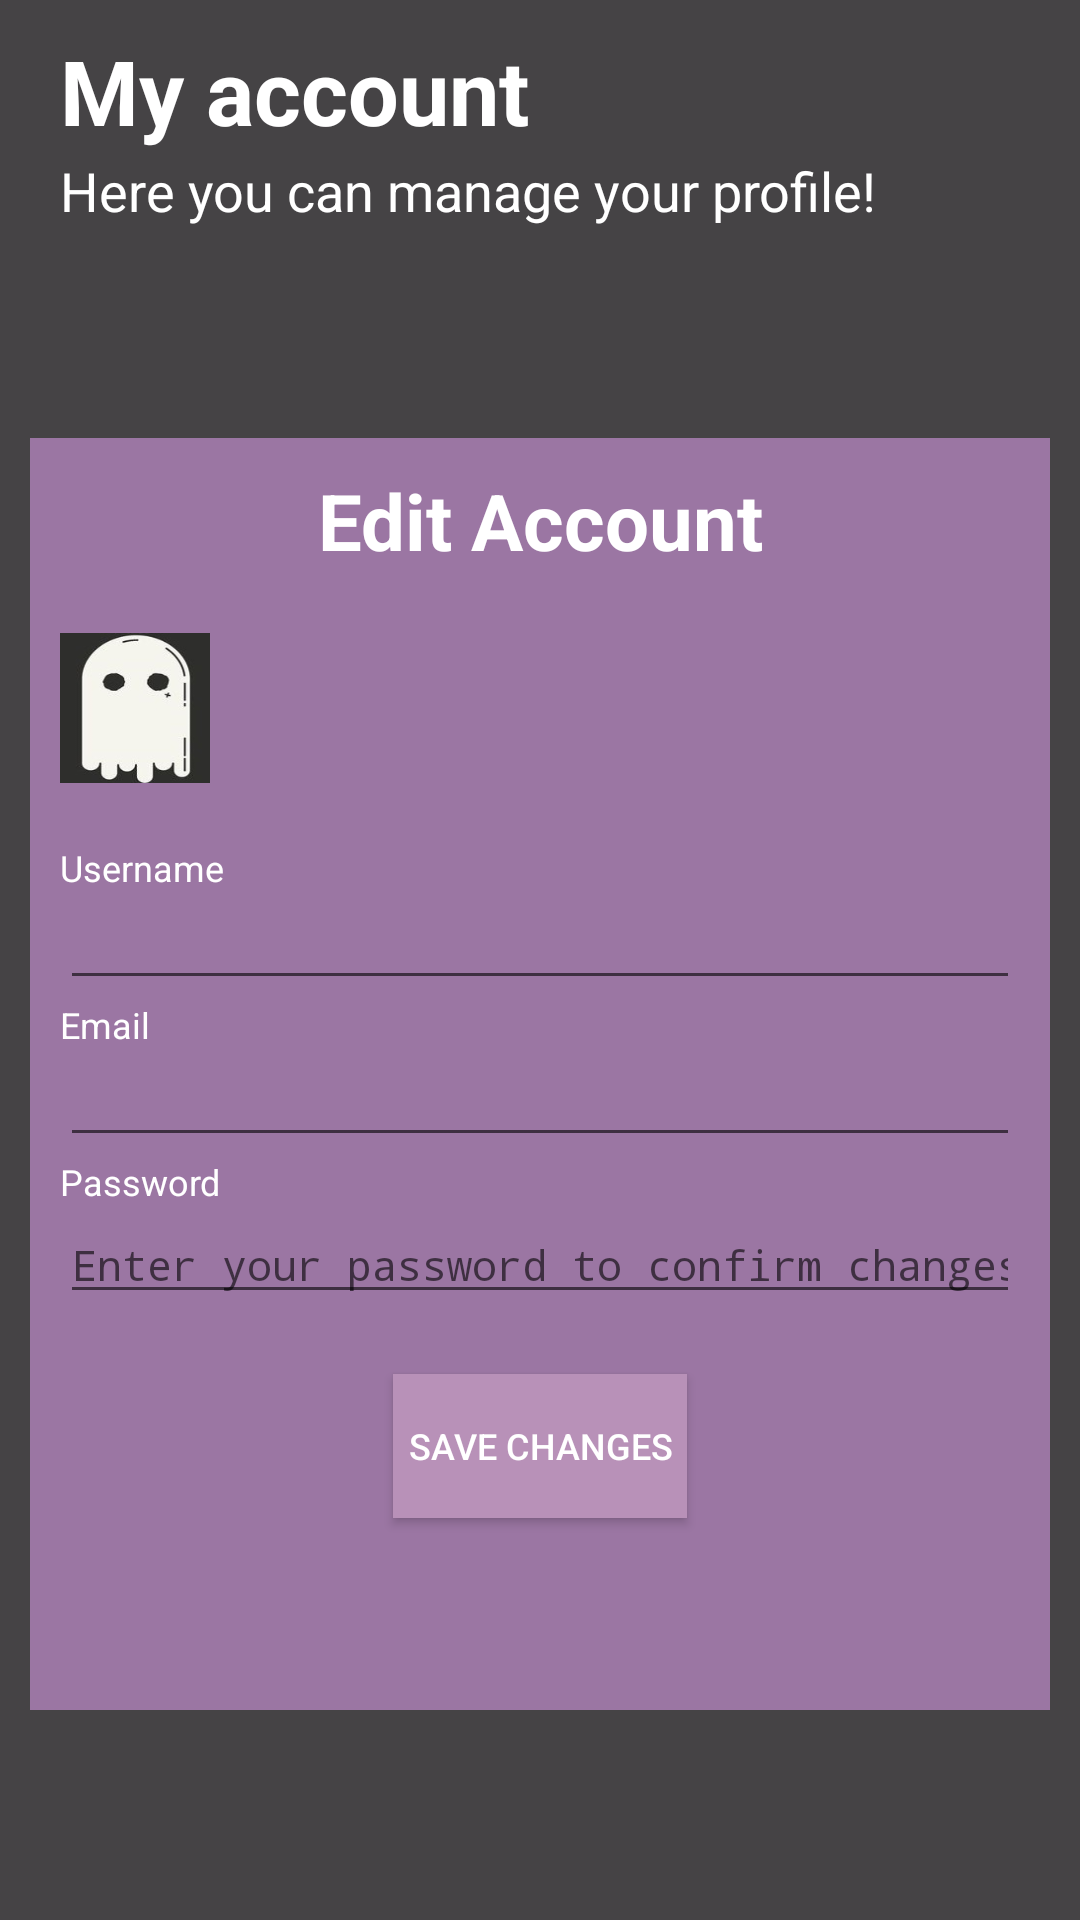

Point at icon controls on the screen. Image size 1080×1920, points as (x=x, y=y).
ghostpic: (x=135, y=708)
